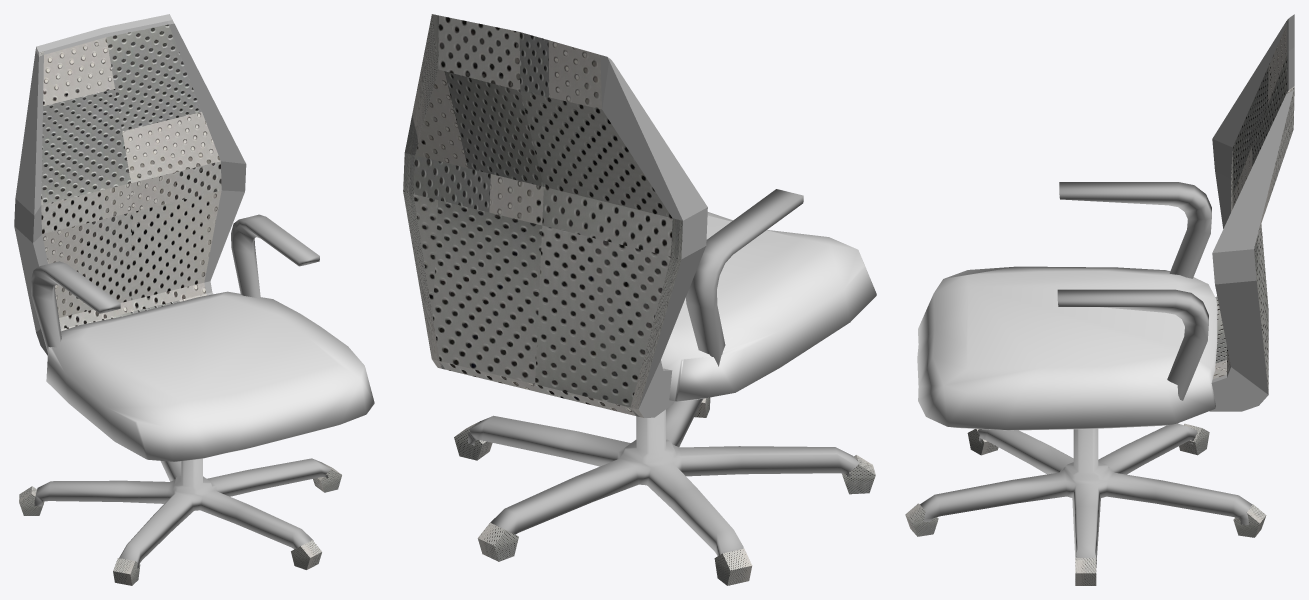
The model's file is Cadeiras-microsoft1-telma(trevo).fbx.
The picture shows the model from 3 angles, left to right: view 1: azimuth 30°, elevation 25°; view 2: azimuth 150°, elevation 25°; view 3: azimuth 270°, elevation 25°; orthographic projection. The views are drawn at different scales.
Parts seen in each view (by area): view 1: cadeira micro; view 2: cadeira micro; view 3: cadeira micro.
Boxes of the visible parts, x1,y1,x2,y2 form: cadeira micro: (14,14,374,585); cadeira micro: (403,14,876,585); cadeira micro: (905,14,1294,585).
Bounding box in the file's own units: 0.6811 × 1.02 × 0.7695.
